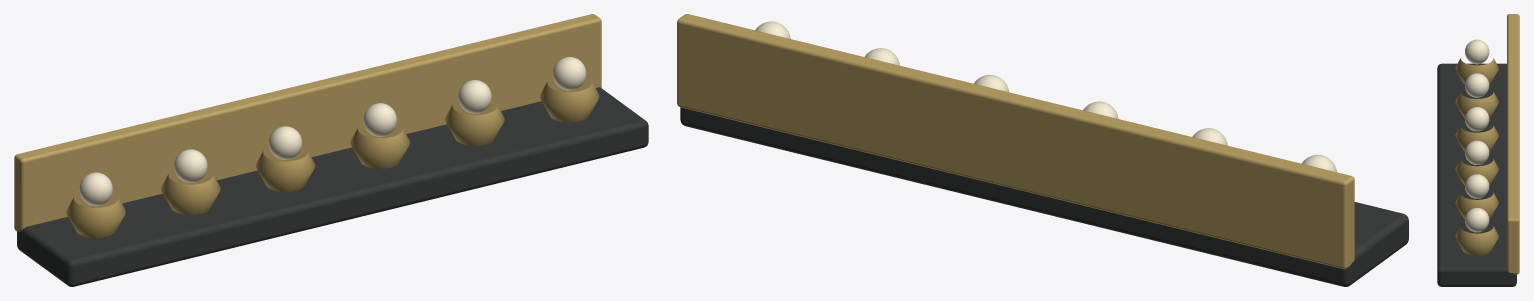
File: abandoned-puppet-theatre-and-prop-vault-footlight-trou-5d92bfc5__31067.glb
3 views of the same model, side by side, from view 1: azimuth 30°, elevation 25°; view 2: azimuth 150°, elevation 25°; view 3: azimuth 270°, elevation 25° (orthographic). The views are drawn at different scales.
Visible parts, largest first — view 1: footlight-trough; view 2: footlight-trough; view 3: footlight-trough.
Boxes of the visible parts, <box> form: footlight-trough: <box>14,14,648,286</box>; footlight-trough: <box>677,14,1408,286</box>; footlight-trough: <box>1437,14,1519,286</box>.
Bounding box in the file's own units: 1.35 × 0.2099 × 0.2275.
